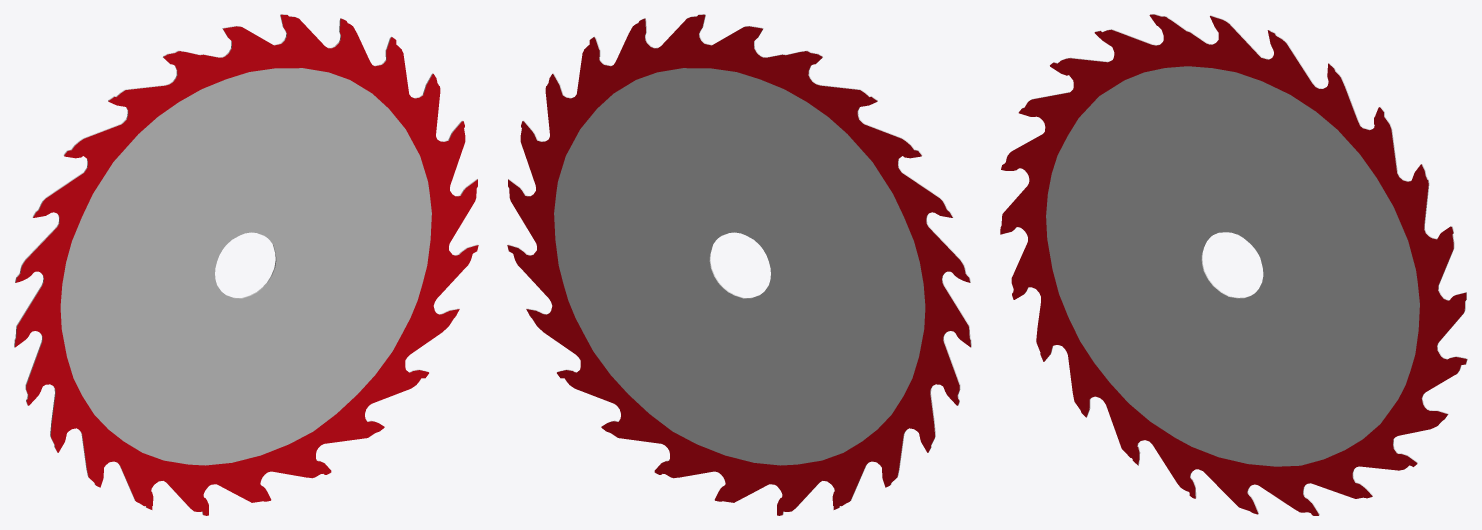
File: Saw.fbx
3 renders of one model, left to right at view 1: azimuth 30°, elevation 25°; view 2: azimuth 150°, elevation 25°; view 3: azimuth 330°, elevation 25°, orthographic.
Visible parts, largest first — view 1: GrenadeRed; view 2: GrenadeRed; view 3: GrenadeRed.
Boxes of the visible parts, x1,y1,x2,y2 form: GrenadeRed: (14,14,478,515); GrenadeRed: (507,14,971,515); GrenadeRed: (1000,14,1467,515).
Bounding box in the file's own units: 479 × 477 × 1.26.
